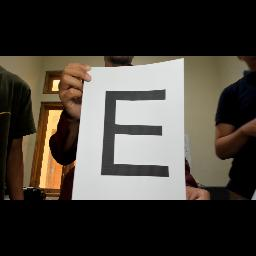e: (94, 86, 176, 182)
